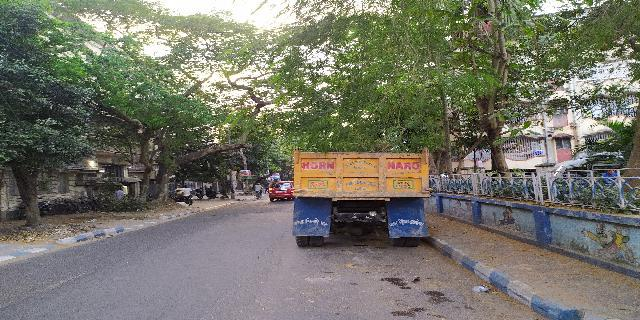Truck: (291, 148, 433, 253)
